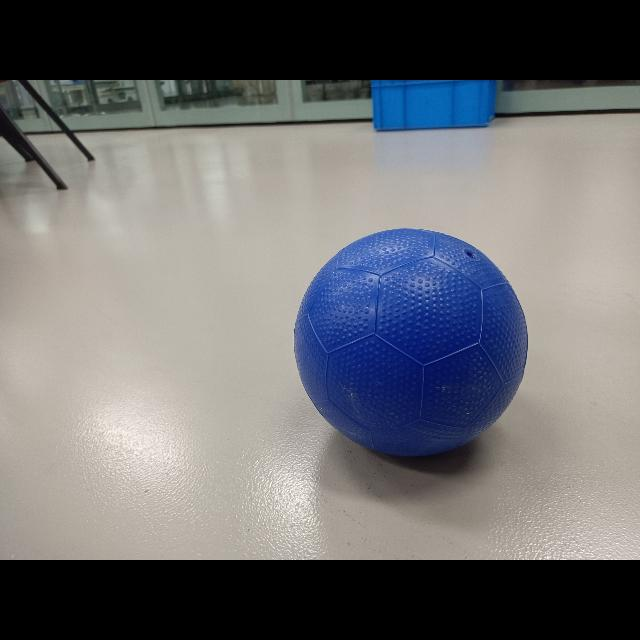B: (294, 227, 528, 457)
